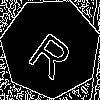R: (25, 23, 81, 82)
